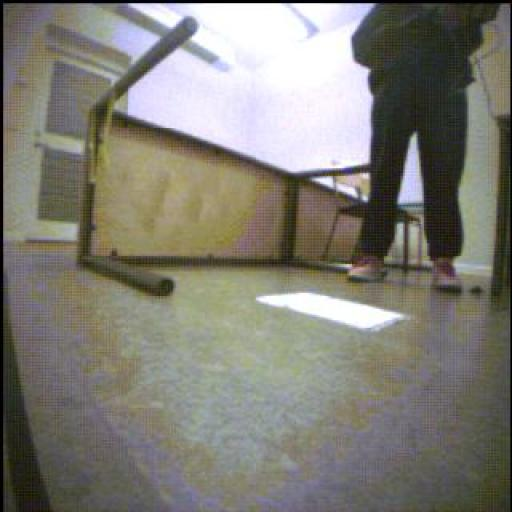Pad: (259, 294, 408, 332)
